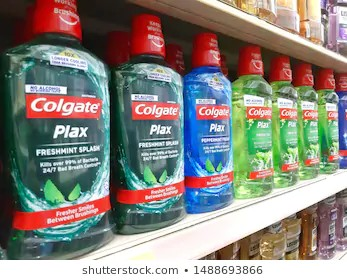colgate-Plax: (1, 2, 111, 251), (116, 10, 186, 235), (183, 25, 231, 213), (231, 37, 273, 200), (270, 55, 298, 189), (300, 63, 319, 183), (321, 66, 340, 178)
